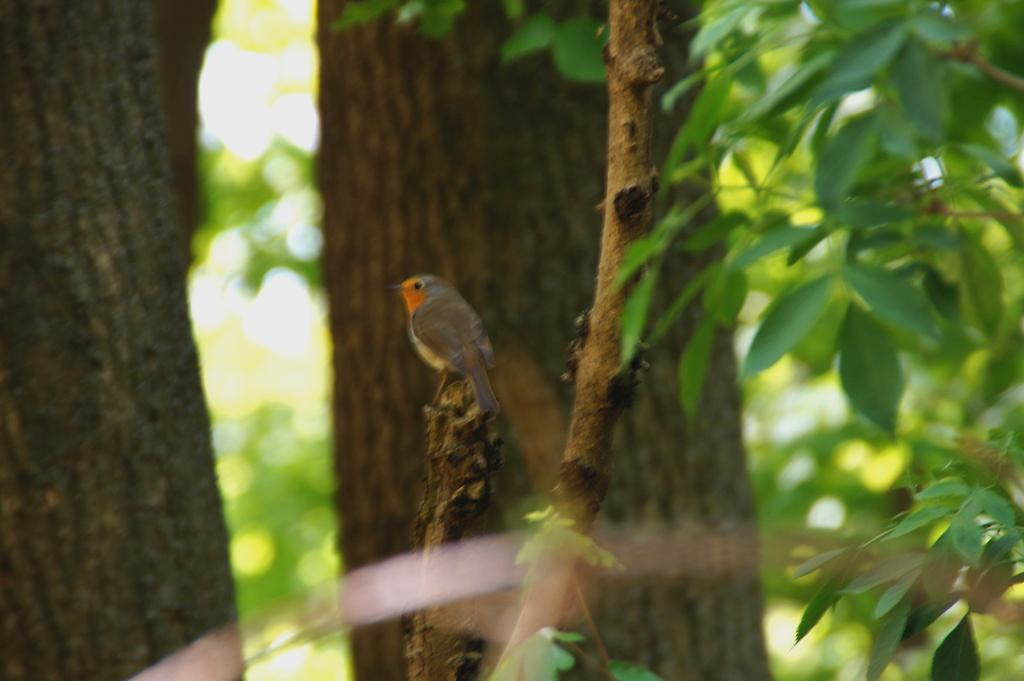ErithacusRubecula: (389, 273, 502, 415)
